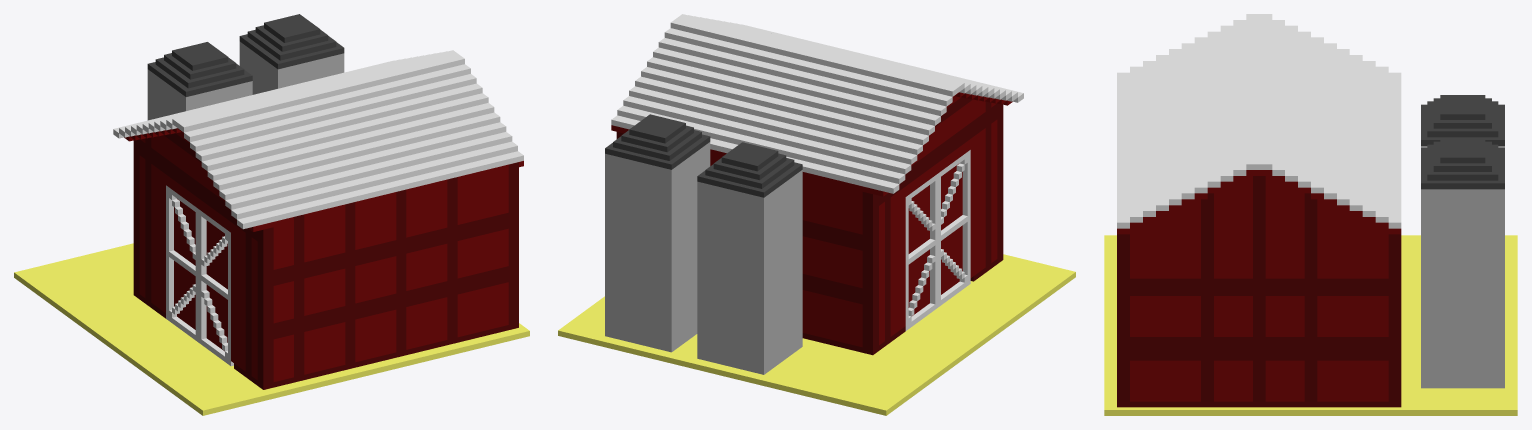
Rendered from farm-4.obj.
The picture shows the model from 3 angles, left to right: view 1: azimuth 30°, elevation 25°; view 2: azimuth 150°, elevation 25°; view 3: azimuth 270°, elevation 25°; orthographic projection. The views are drawn at different scales.
Size of the model in its own units: 6.4 by 4.3 by 6.4.
1 material, 1 textured.
